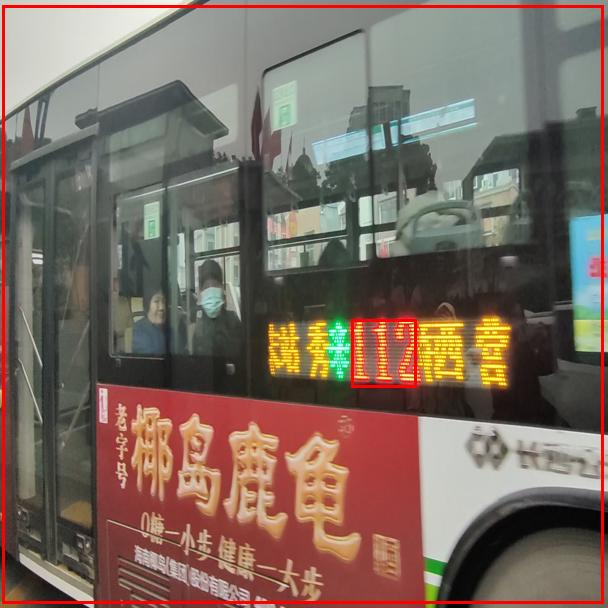bus: (2, 5, 603, 603)
screen: (351, 319, 416, 387)
